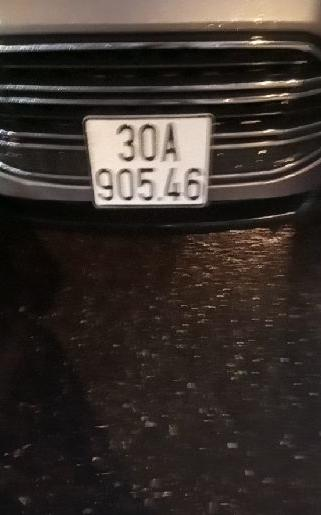Plate-iWeP: (84, 113, 215, 211)
